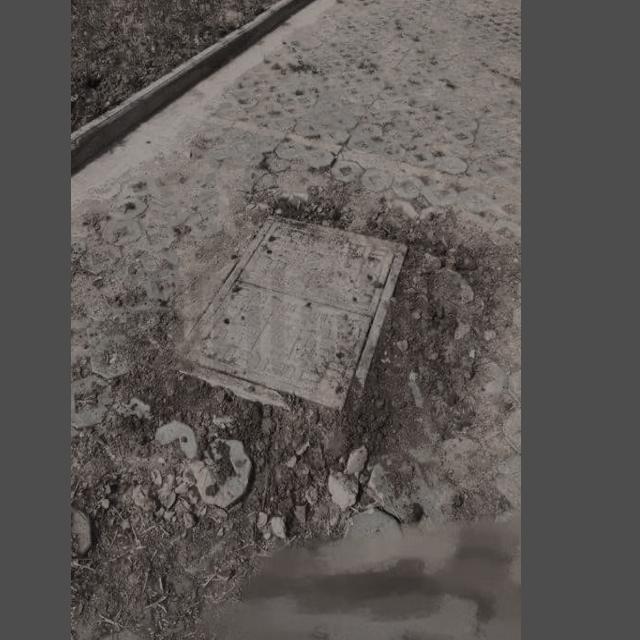circle: (154, 209, 429, 447)
